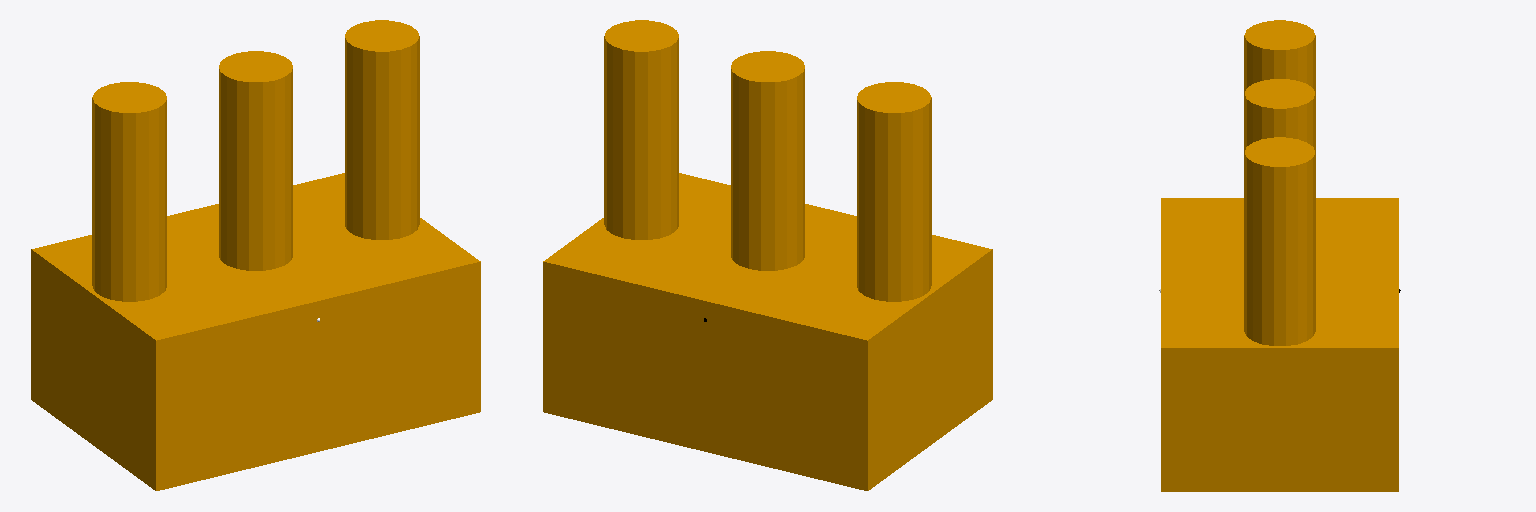
URDF robot description (three_circle_peg):
<?xml version="1.0"?>
<robot name="three_circle_peg">
    <link name="three_circle_peg">
        <visual>
            <origin xyz="0 0 0"/>
            <geometry>
                <mesh filename="../mesh/factory_insertion/three_circle_peg.obj"/>
            </geometry>
        </visual>
        <collision>
            <geometry>
                <mesh filename="../mesh/factory_insertion/three_circle_peg.obj"/>
            </geometry>
            <sdf resolution="256"/>
        </collision>
    </link>

    <joint name="base_to_grippoint" type="fixed">
      <parent link="three_circle_peg"/>
      <child link="grip_point"/>
      <origin rpy="0 0 0" xyz="0 0 -0.055"/>
    </joint>

    <joint name="grippoint_left" type="fixed">
      <parent link="grip_point"/>
      <child link="left_girpponit"/>
      <origin rpy="0 0 0" xyz="0 0.03 0"/>
    </joint>

    <joint name="grippoint_right" type="fixed">
      <parent link="grip_point"/>
      <child link="right_girpponit"/>
      <origin rpy="0 0 0" xyz="0 -0.03 0"/>
    </joint>

    <link name="left_girpponit">
      <visual>
        <geometry>
          <sphere radius="0.0005"/>
        </geometry>
        <material name="red">
          <color rgba="0.0 0.0 0.0 1" />
        </material>
        <origin xyz="0 0 0"/>
      </visual>
    </link>

    <link name="right_girpponit">
      <visual>
        <geometry>
          <sphere radius="0.0005"/>
        </geometry>
        <material name="red">
          <color rgba="1.0 1.0 1.0 1" />
        </material>
        <origin xyz="0 0 0"/>
      </visual>
    </link>

    <link name="grip_point">
      <visual>
        <geometry>
          <sphere radius="0.0005"/>
        </geometry>
        <material name="Vis"/>
        <origin xyz="0 0 0"/>
      </visual>
    </link>

</robot>

--- Render facts (derived) ---
3 views of the same robot in one strip: view 1: azimuth 30°, elevation 25°; view 2: azimuth 150°, elevation 25°; view 3: azimuth 270°, elevation 25° (orthographic).
Model three_circle_peg with 4 links and 3 joints (3 fixed), rooted at three_circle_peg, posed all joints at 0.
Links seen in each view (by area): view 1: three_circle_peg; view 2: three_circle_peg; view 3: three_circle_peg.
Boxes of the visible links, x1,y1,x2,y2 form: three_circle_peg: [31, 20, 480, 490]; three_circle_peg: [543, 20, 992, 490]; three_circle_peg: [1161, 20, 1398, 491].
Size in the robot's own frame: 0.09 by 0.061 by 0.09 metres.
1 mesh visuals loaded from 1 distinct referenced files (1 OBJ).
